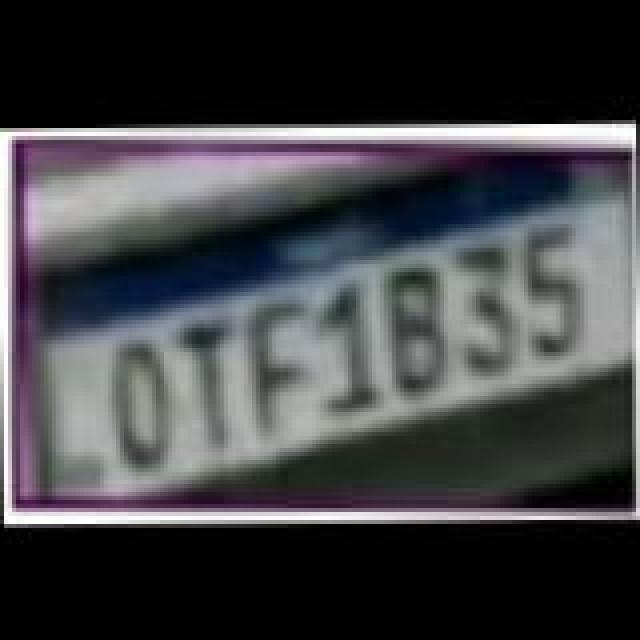1: (318, 280, 386, 412)
3: (454, 242, 522, 374)
5: (522, 222, 590, 354)
B: (380, 262, 452, 394)
F: (246, 296, 314, 428)
O: (112, 338, 180, 470)
T: (180, 318, 248, 450)
